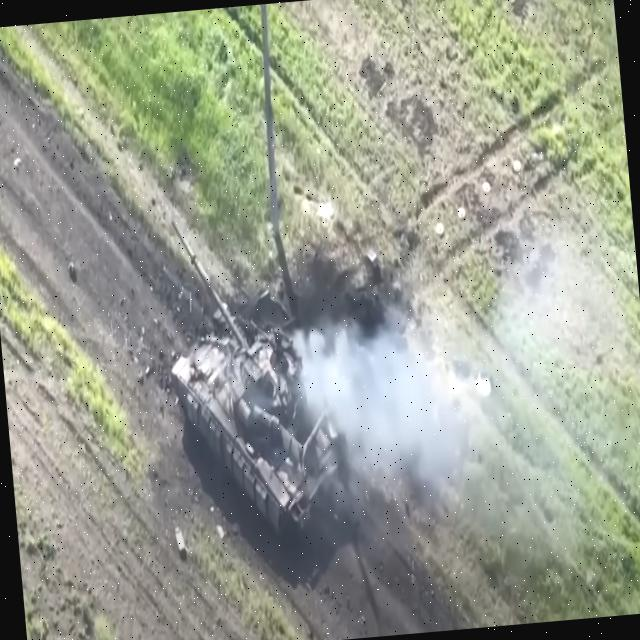MBT: (158, 199, 361, 563)
